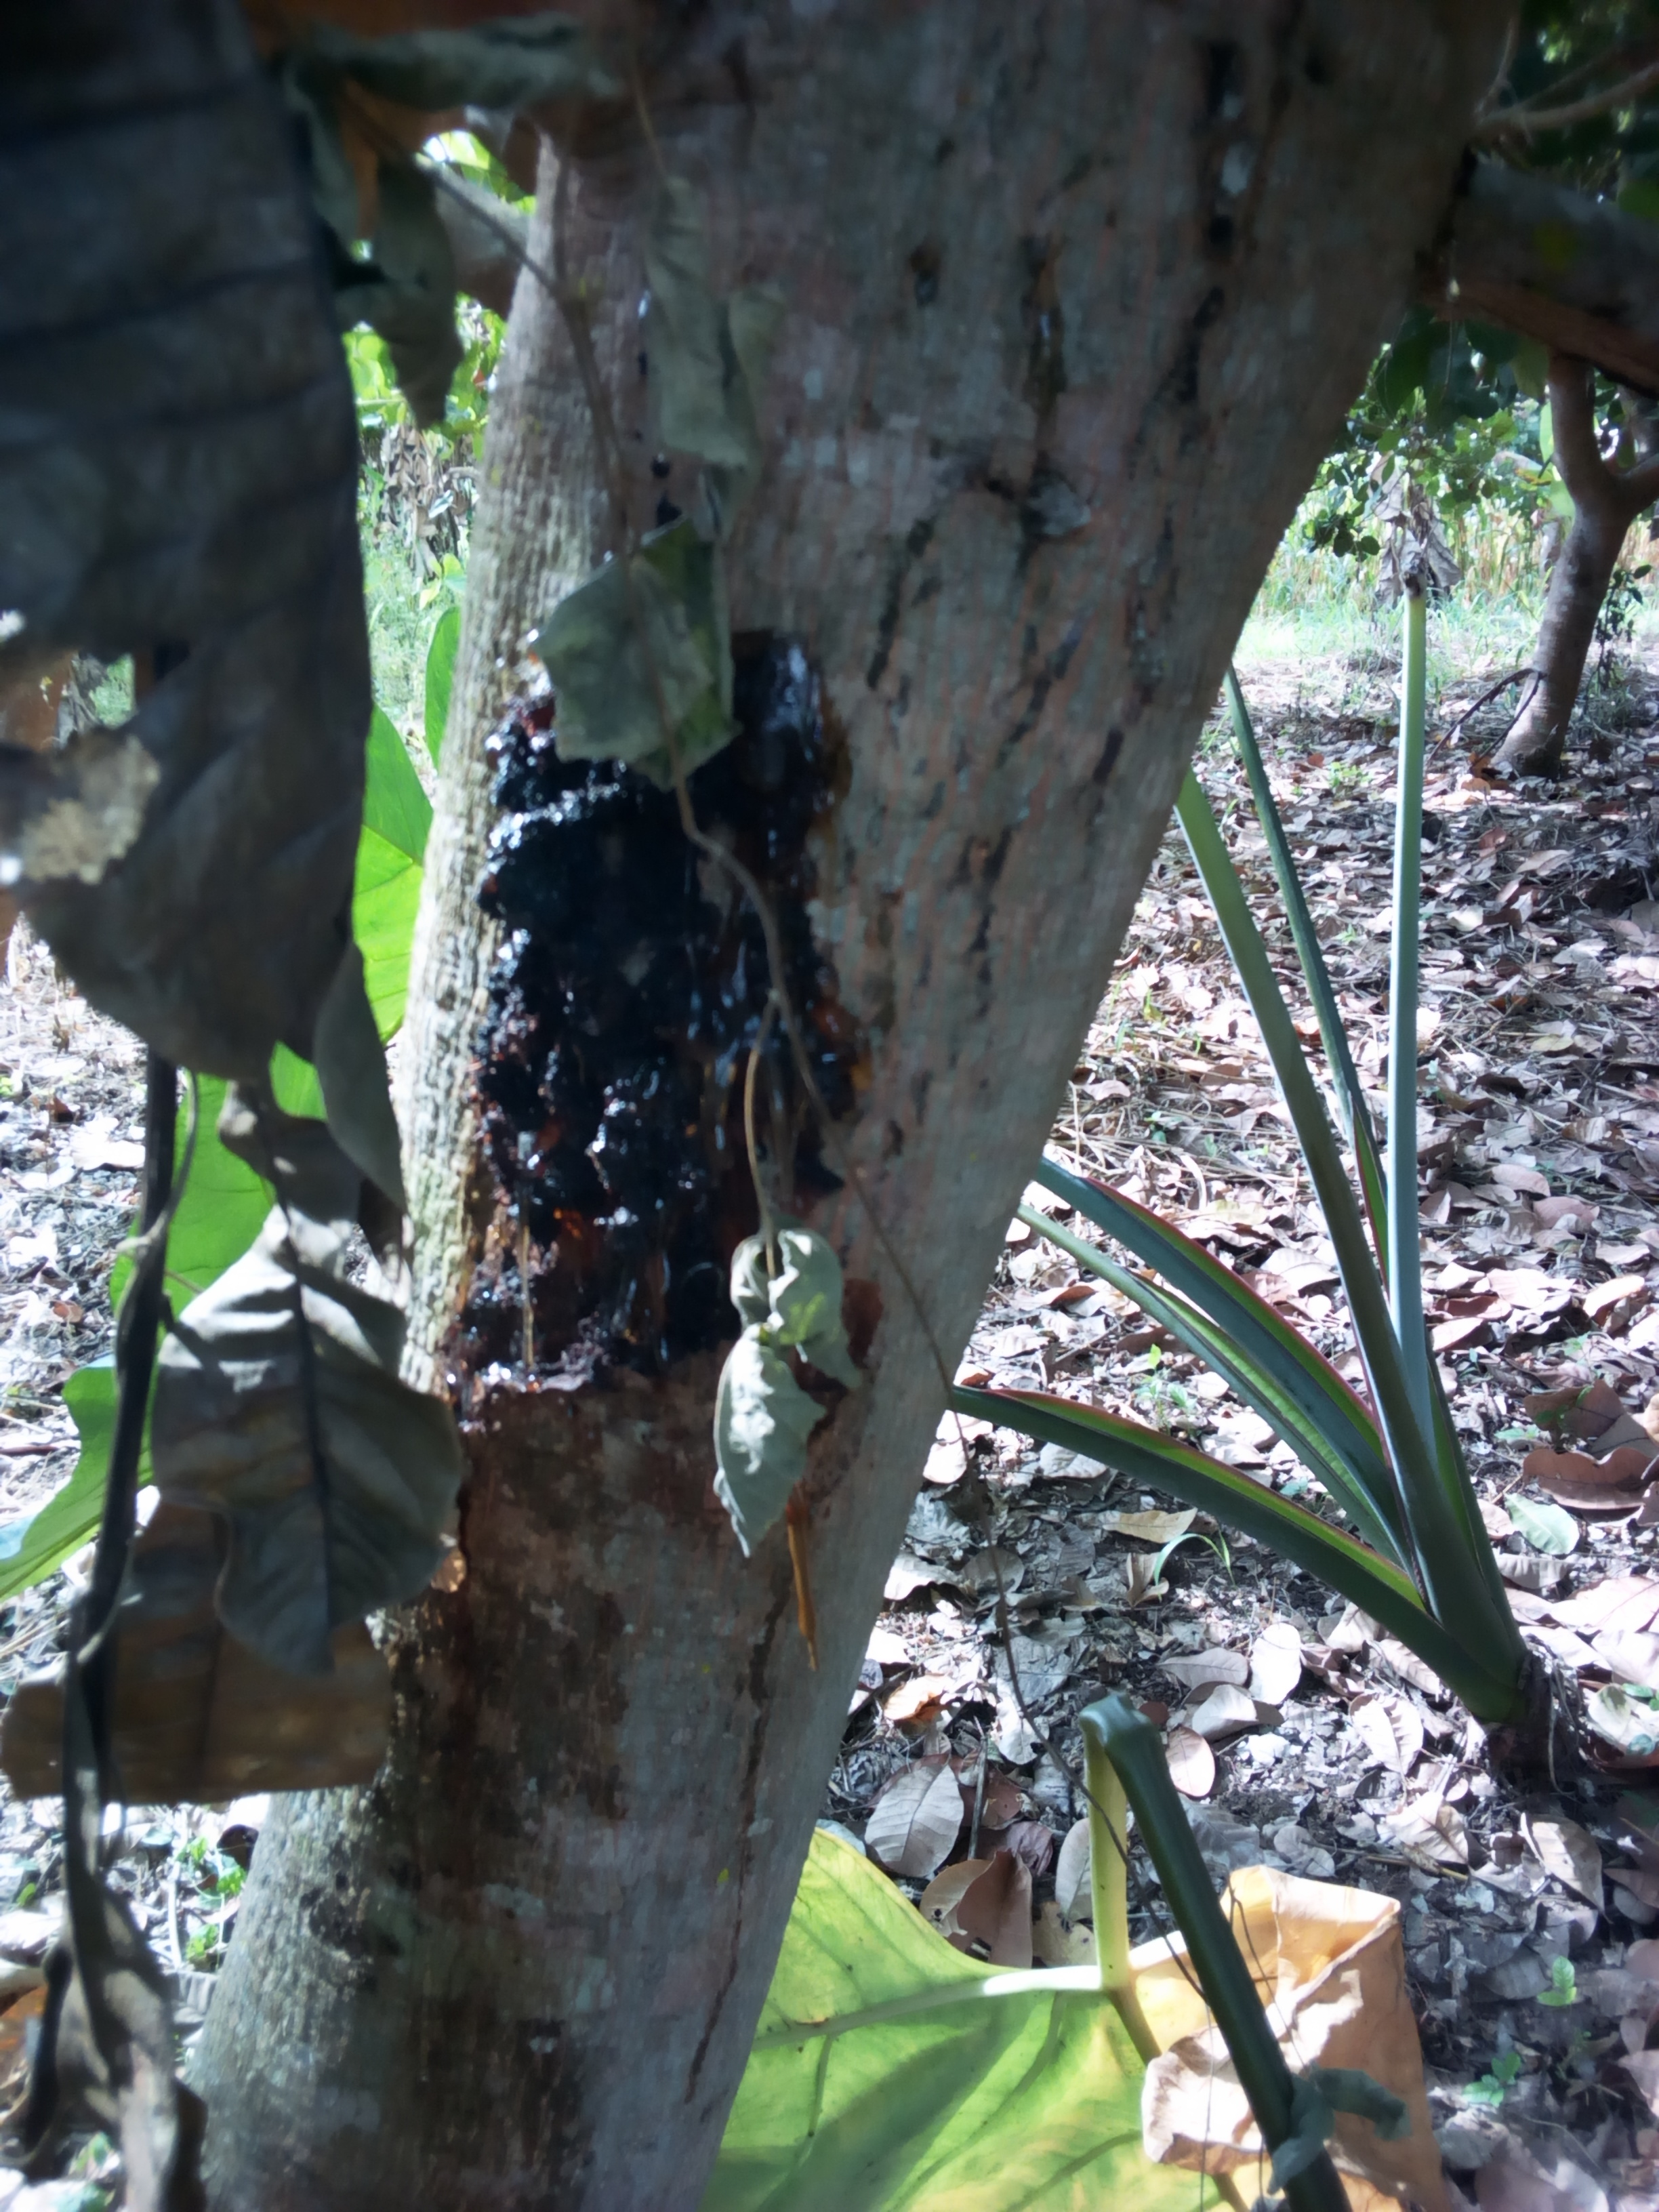Mecocorynus longiceps: (423, 580, 877, 1439)
